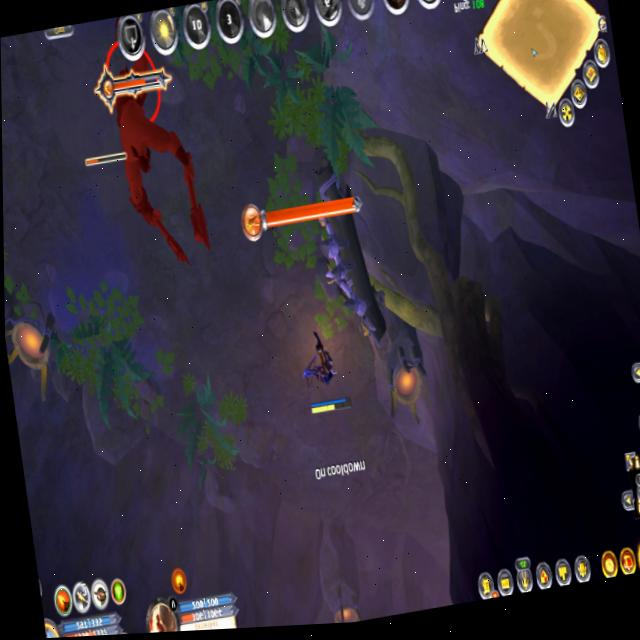ore: (65, 17, 225, 294)
red: (291, 321, 355, 422)
